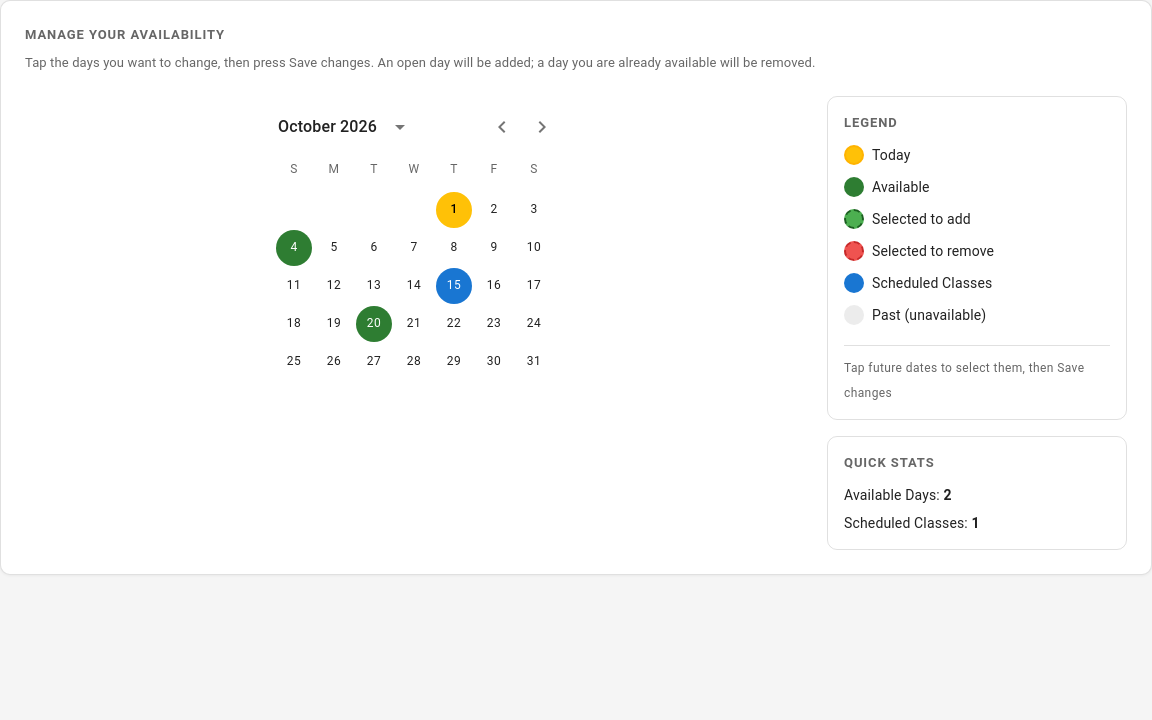
AvailabilityView multi-select › refuses to select a removal 5 days or less away, with the usual message
Step 1. Click the cell "4" → (294, 248), box [276,230,312,266]
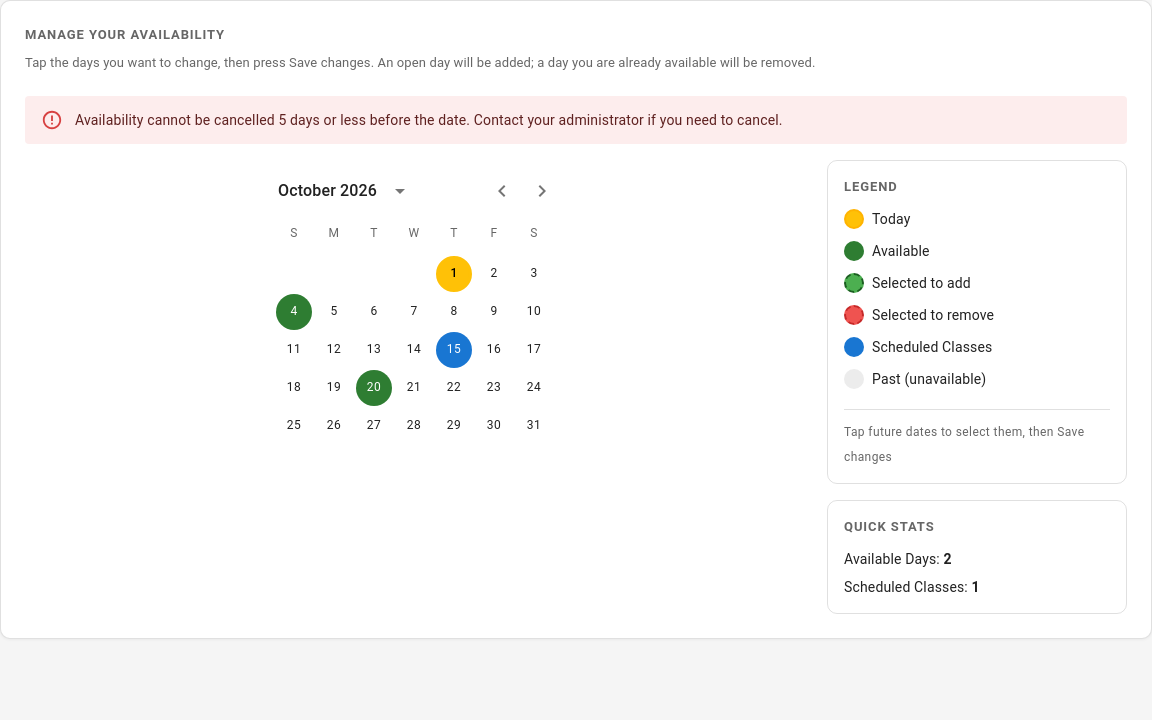
Check: the text "cannot be cancelled 5 days or less before the date" is shown, box [75,112,783,128]
